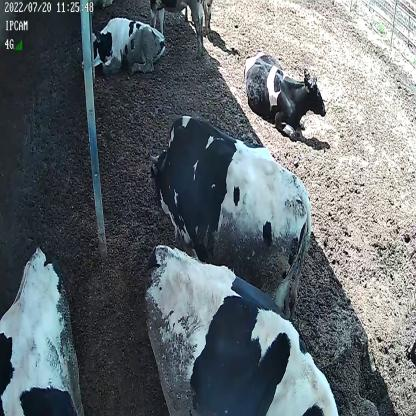cow: (142, 243, 336, 416), (149, 113, 312, 311), (241, 47, 328, 135), (79, 15, 170, 77)
